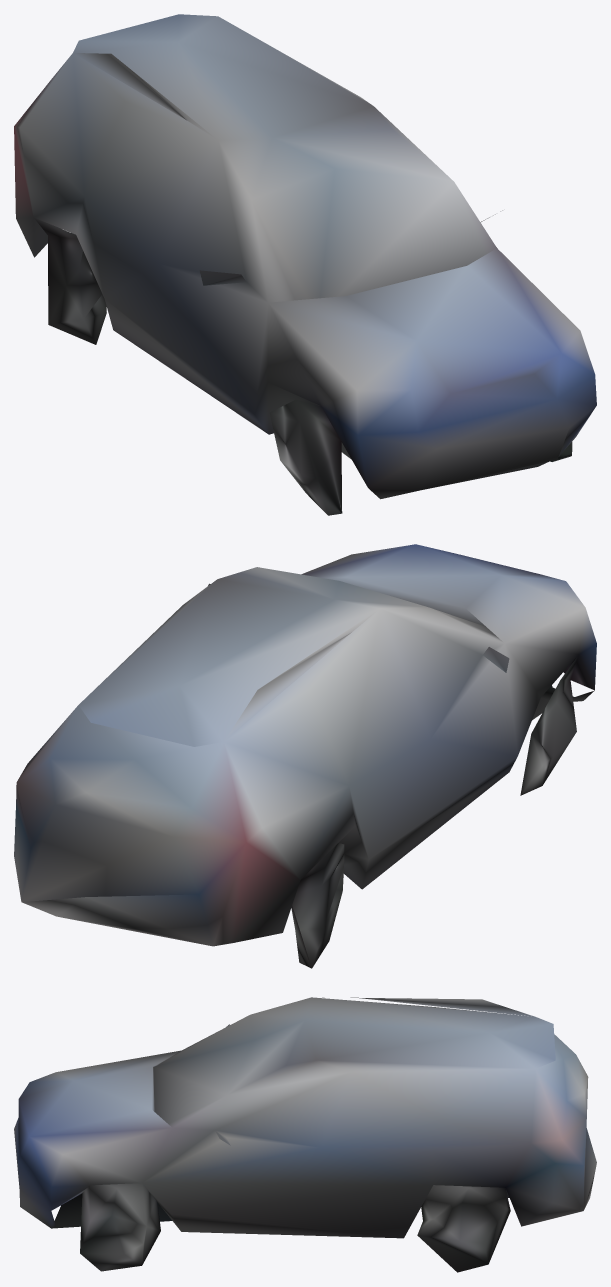
File: suv_far.glb
The picture shows the model from 3 angles, top to bottom: view 1: azimuth 30°, elevation 25°; view 2: azimuth 150°, elevation 25°; view 3: azimuth 270°, elevation 25°; orthographic projection. The views are drawn at different scales.
Visible parts, largest first — view 1: suv; view 2: suv; view 3: suv.
Part boxes in pixels (x1,y1,x2,y2): suv: (14,14,596,515); suv: (14,544,596,968); suv: (14,997,596,1272).
Size of the model in its own units: 1.18 by 1 by 2.62.
